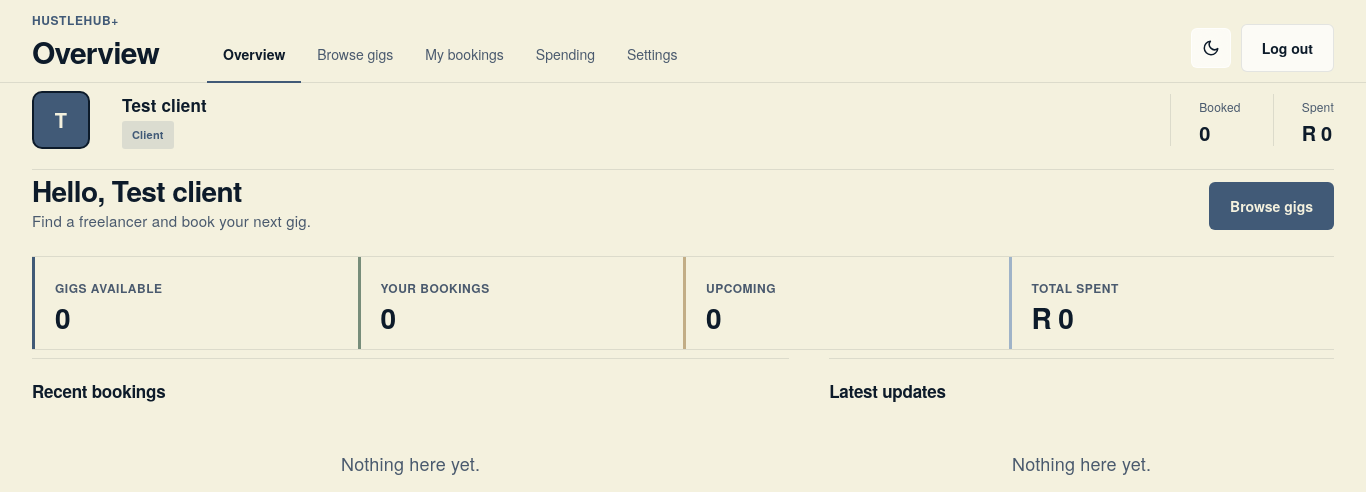
Test case: Dashboard by role › moves between tabs when a tab is clicked
The image size is (1366, 492).
Expected: the heading "Hello, Test client" is shown, [32, 170, 242, 211]
Click the button "My bookings". click: (465, 55)
box: [409, 27, 520, 83]
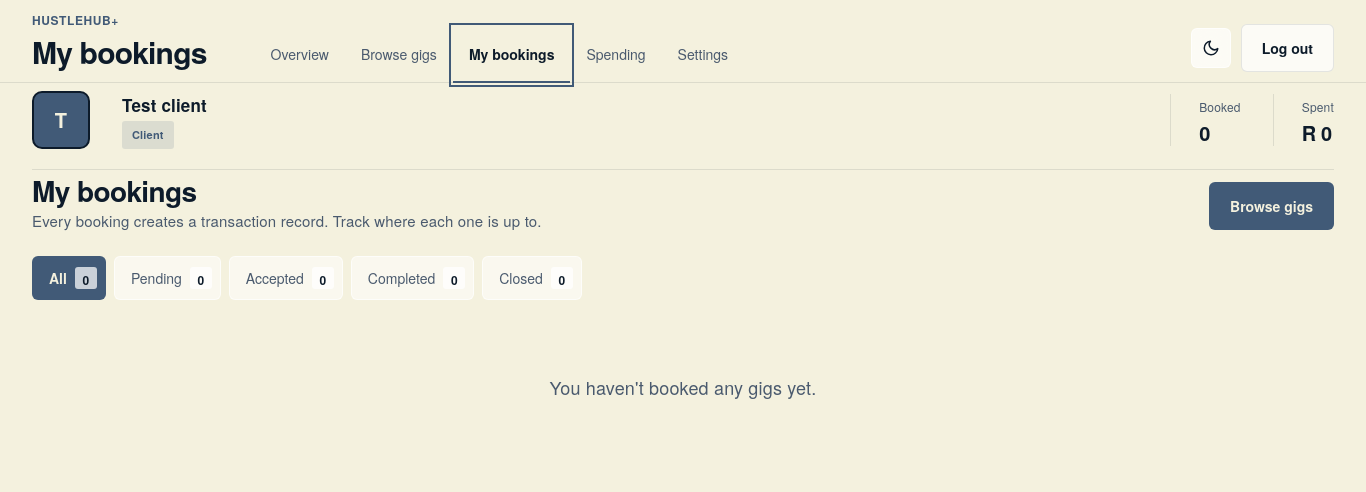
Now the text "You haven't booked any gigs yet." is shown, box [550, 374, 816, 400]
